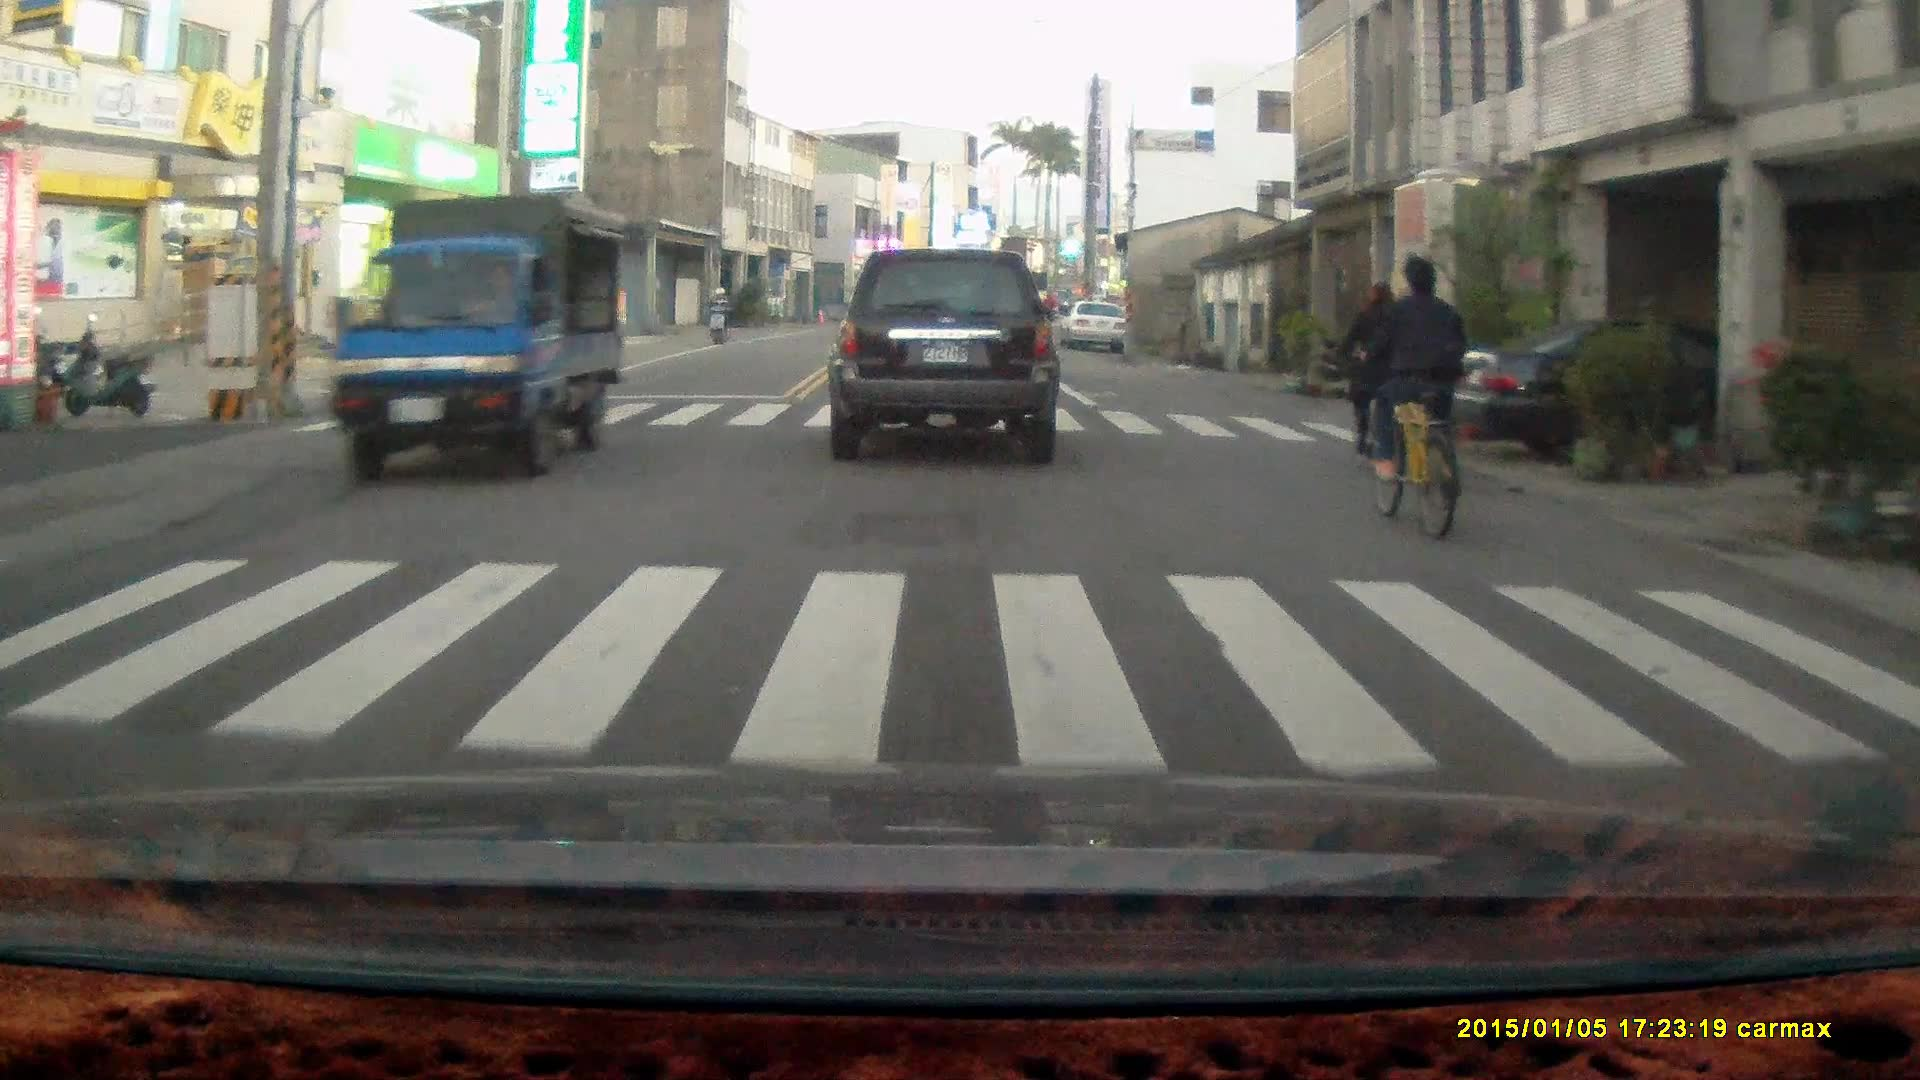rider: (1357, 254, 1466, 544), (1334, 279, 1406, 475), (705, 284, 731, 346)
vehicle: (326, 191, 635, 483), (1445, 315, 1884, 469), (825, 246, 1062, 465), (1058, 303, 1133, 357)
